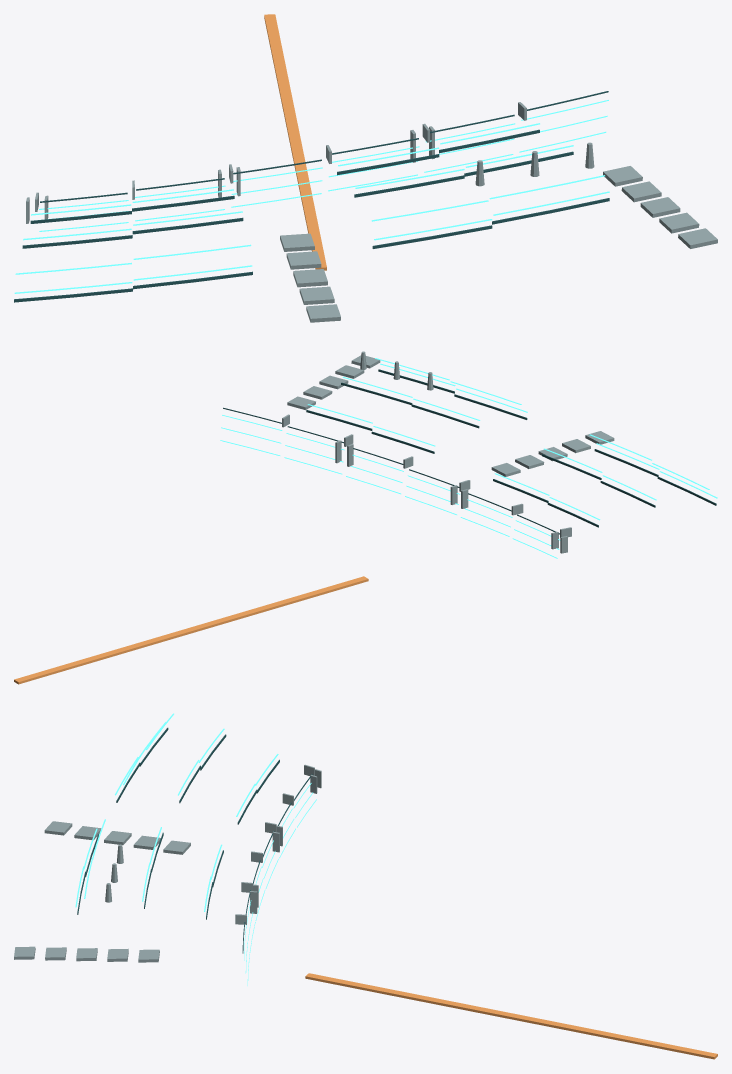
The model's file is Weather_Lung_Sector_08_Dressing.glb.
3 renders of one model, top to bottom at view 1: azimuth 30°, elevation 25°; view 2: azimuth 150°, elevation 25°; view 3: azimuth 270°, elevation 25°, orthographic. The views are drawn at different scales.
Visible parts, largest first — view 1: Weather_Lung_Sector_08_Dressing; view 2: Weather_Lung_Sector_08_Dressing; view 3: Weather_Lung_Sector_08_Dressing.
Part boxes in pixels (x1,y1,x2,y2): Weather_Lung_Sector_08_Dressing: (14, 14, 717, 322); Weather_Lung_Sector_08_Dressing: (14, 351, 717, 684); Weather_Lung_Sector_08_Dressing: (14, 713, 717, 1059).
Bounding box in the file's own units: 6035 × 1715 × 7580.
